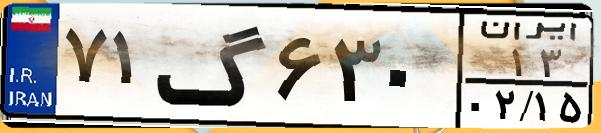0: (385, 28, 445, 110), (470, 70, 495, 125)
1: (110, 28, 156, 98), (508, 27, 537, 80), (535, 70, 560, 125)
2: (495, 70, 520, 125)
3: (330, 28, 385, 110), (537, 27, 568, 80)
5: (560, 70, 590, 125)
6: (270, 28, 330, 110)
7: (57, 26, 110, 100)
گ: (156, 12, 270, 120)
